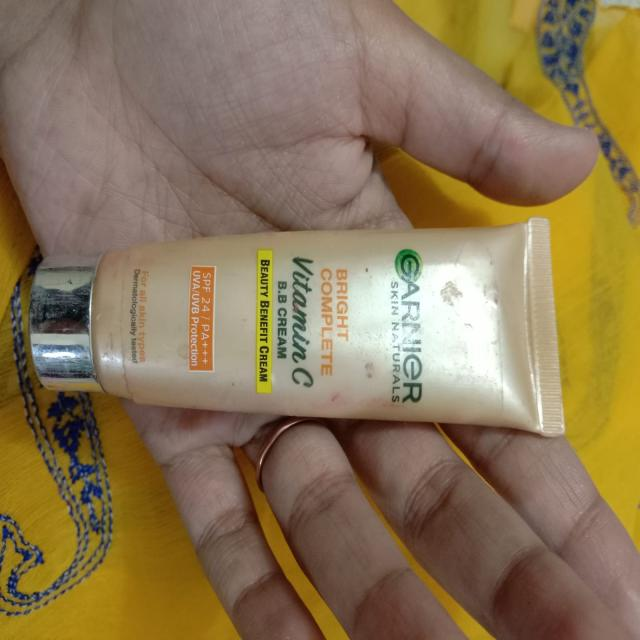bb cream: (15, 199, 557, 414)
